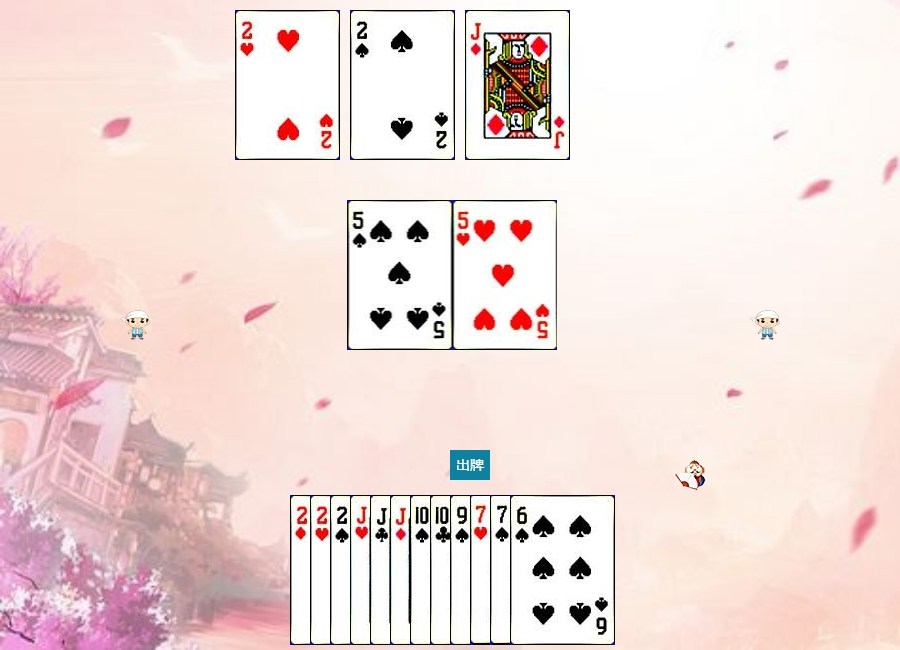10~2: (430, 495, 535, 645)
10~4: (410, 495, 515, 645)
11~1: (465, 10, 570, 160), (390, 495, 495, 645)
11~2: (370, 495, 475, 645)
11~3: (350, 495, 455, 645)
15~1: (290, 495, 395, 645)
15~3: (235, 10, 340, 160), (310, 495, 415, 645)
15~4: (350, 10, 455, 160), (330, 495, 435, 645)
5~3: (453, 200, 558, 350)
5~4: (348, 200, 453, 350)
6~4: (510, 495, 615, 645)
7~3: (470, 495, 575, 645)
7~4: (490, 495, 595, 645)
9~4: (450, 495, 555, 645)
